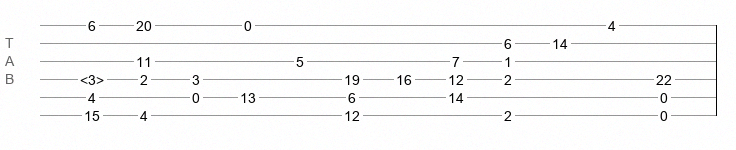0: (192, 90, 200, 100), (244, 18, 252, 28), (660, 108, 668, 118), (660, 90, 668, 100)
1: (504, 54, 512, 64)
11: (136, 54, 152, 64)
12: (344, 108, 360, 118), (448, 72, 464, 82)
13: (240, 90, 256, 100)
14: (448, 90, 464, 100), (552, 36, 568, 46)
15: (84, 108, 100, 118)
16: (396, 72, 412, 82)
19: (344, 72, 360, 82)
2: (140, 72, 148, 82), (504, 72, 512, 82), (504, 108, 512, 118)
20: (136, 18, 152, 28)
22: (656, 72, 672, 82)
3: (192, 72, 200, 82)
4: (88, 90, 96, 100), (140, 108, 148, 118), (608, 18, 616, 28)
5: (296, 54, 304, 64)
6: (88, 18, 96, 28), (348, 90, 356, 100), (504, 36, 512, 46)
7: (452, 54, 460, 64)
harmonic: (80, 72, 104, 82)
